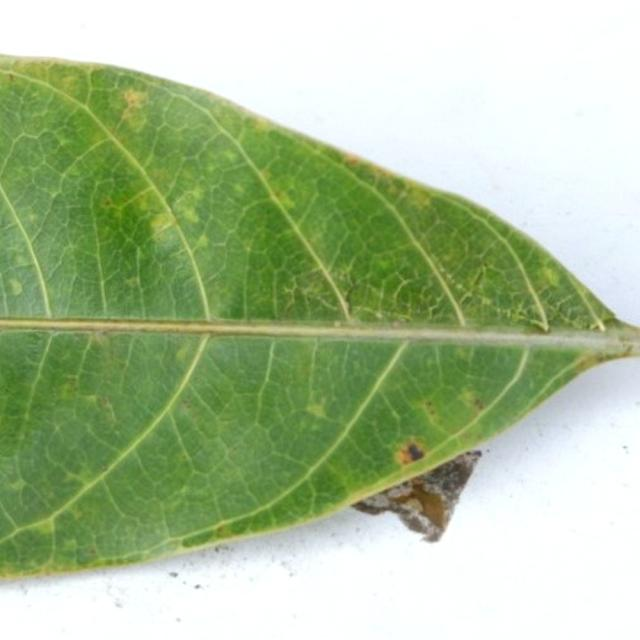Mango: (0, 57, 639, 575)
Powdery_Mildew: (345, 156, 430, 209), (113, 86, 156, 122), (149, 209, 177, 235), (397, 442, 425, 465), (273, 187, 296, 210), (459, 389, 482, 411), (539, 266, 560, 287), (306, 401, 329, 419), (96, 393, 115, 413), (175, 342, 192, 362), (251, 117, 272, 133), (7, 278, 24, 296), (424, 399, 440, 418), (8, 477, 27, 493), (123, 275, 142, 290), (194, 233, 210, 250), (13, 252, 31, 267), (343, 152, 362, 165), (62, 537, 78, 552), (221, 149, 237, 163), (214, 523, 228, 537), (180, 398, 193, 411), (102, 197, 115, 209), (6, 72, 16, 82), (455, 283, 465, 291)
